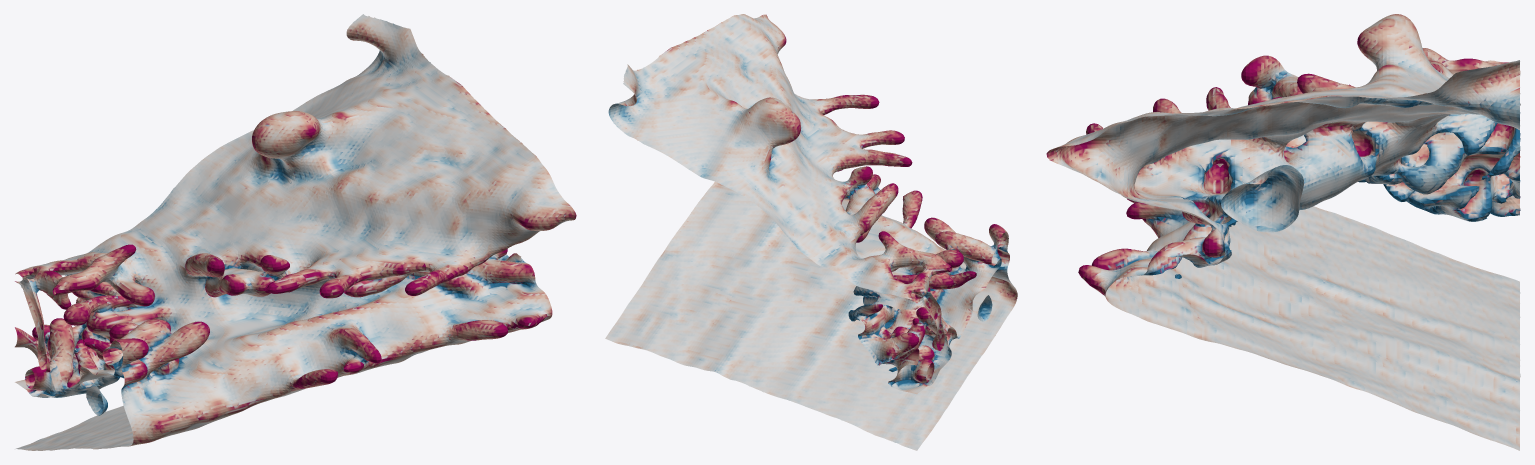
The model's file is crop1073_curvature.glb.
3 renders of one model, left to right at view 1: azimuth 30°, elevation 25°; view 2: azimuth 150°, elevation 25°; view 3: azimuth 270°, elevation 25°, orthographic. The views are drawn at different scales.
Visible parts, largest first — view 1: world; view 2: world; view 3: world.
Part boxes in pixels (x1,y1,x2,y2): world: [15, 14, 576, 450]; world: [605, 14, 1017, 450]; world: [1046, 14, 1520, 450].
Bounding box in the file's own units: 2280 × 2057 × 2052.
